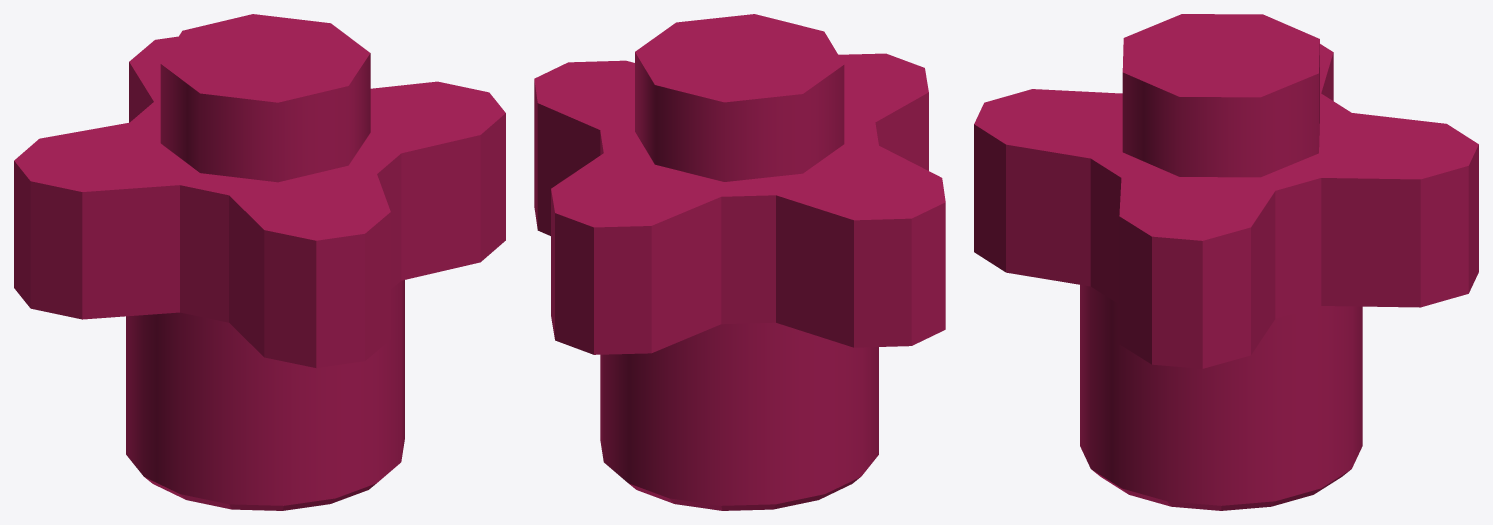
The model's file is Part_Flower.FBX.
3 views of the same model, side by side, from view 1: azimuth 30°, elevation 25°; view 2: azimuth 150°, elevation 25°; view 3: azimuth 270°, elevation 25° (orthographic).
Visible parts, largest first — view 1: Part_Flower; view 2: Part_Flower; view 3: Part_Flower.
Part boxes in pixels (x1=…): Part_Flower: x1=14, y1=14, x2=505, y2=510; Part_Flower: x1=534, y1=14, x2=945, y2=510; Part_Flower: x1=974, y1=14, x2=1478, y2=510.
Bounding box in the file's own units: 143 × 125 × 143.
